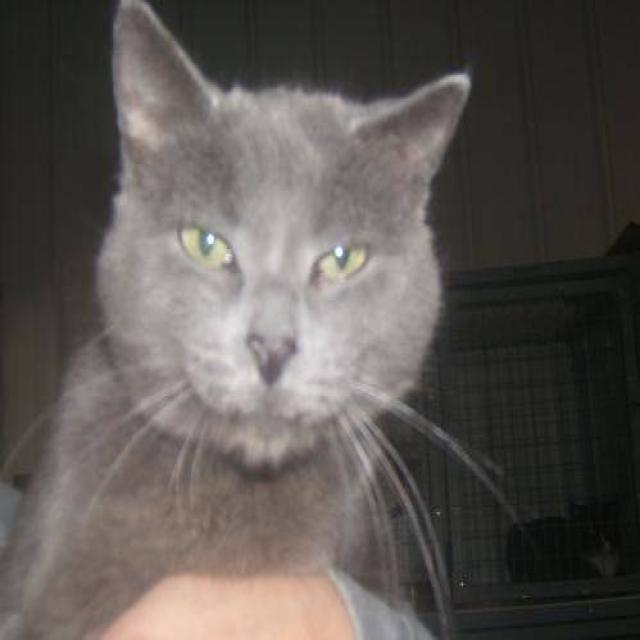cat: (0, 0, 523, 638)
